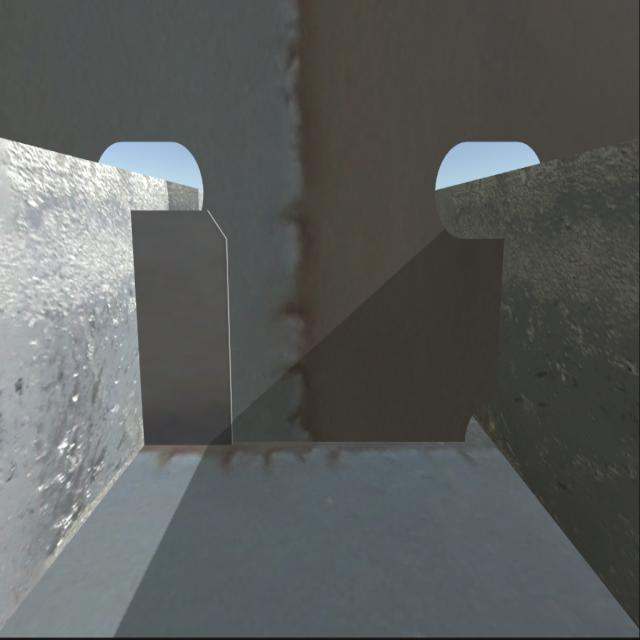fillet_hole: (460, 397, 500, 446)
fillet_yong_jeop_jang: (141, 435, 454, 453)
longi_yong_jeop_jang: (132, 214, 138, 446), (493, 242, 501, 396)
plate_CP03: (131, 201, 231, 448)
